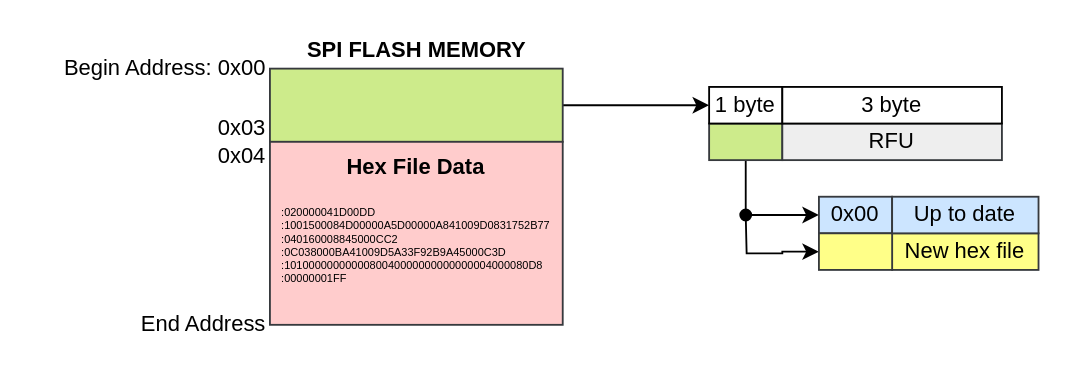
The diagram is 1071 pixels wide and 373 high, and some of its shapes have lost their labels. The centre of each missing label's shape, as x and y in pixels:
"0xFF" belongs at (854,250).
"Bootloader Trigger State" belongs at (415,104).
"State" belongs at (744,141).
